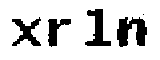1: (80, 6, 113, 50)
n: (114, 14, 152, 48)
r: (47, 14, 75, 51)
x: (7, 15, 45, 48)
